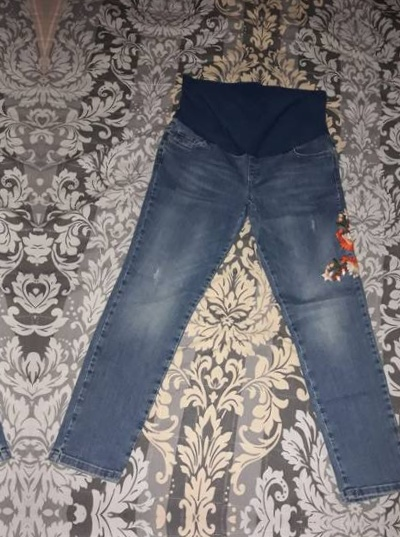Pants: (64, 50, 400, 503), (0, 36, 9, 488), (46, 536, 396, 537)
